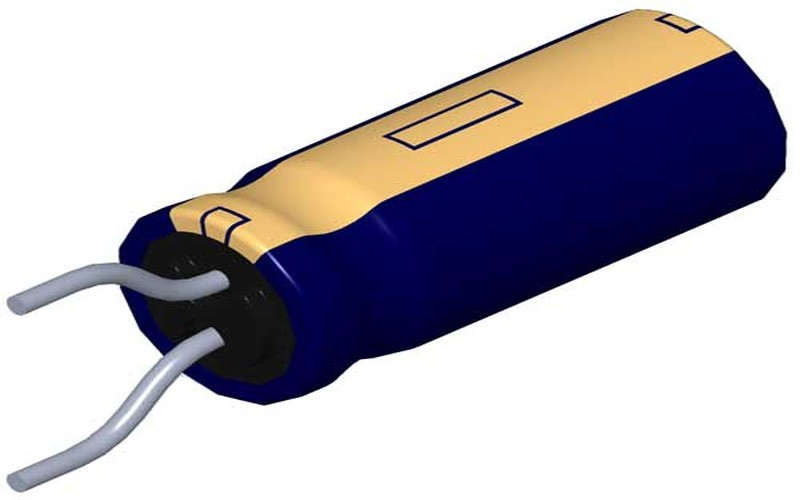Capacitor: (4, 3, 790, 500)
